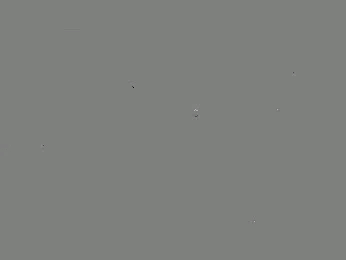skateboard: (192, 108, 198, 117)
